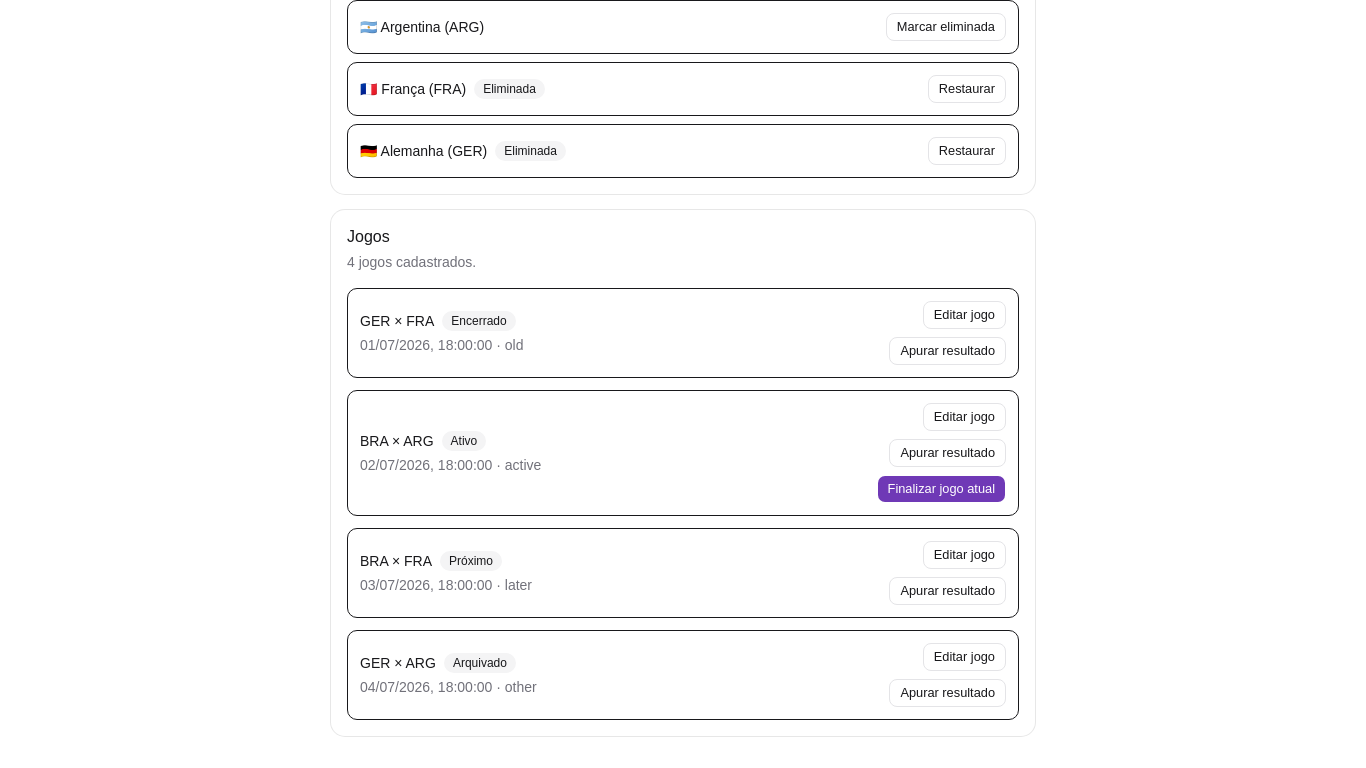
Test: AdminMatchesPage › shows a finish failure returned by the API
(page scrolled)
What coordinates should you click on to do the following:
click the button "Finalizar jogo atual"
I would click on:
 (941, 489)
Its box is [877,475,1006,503].
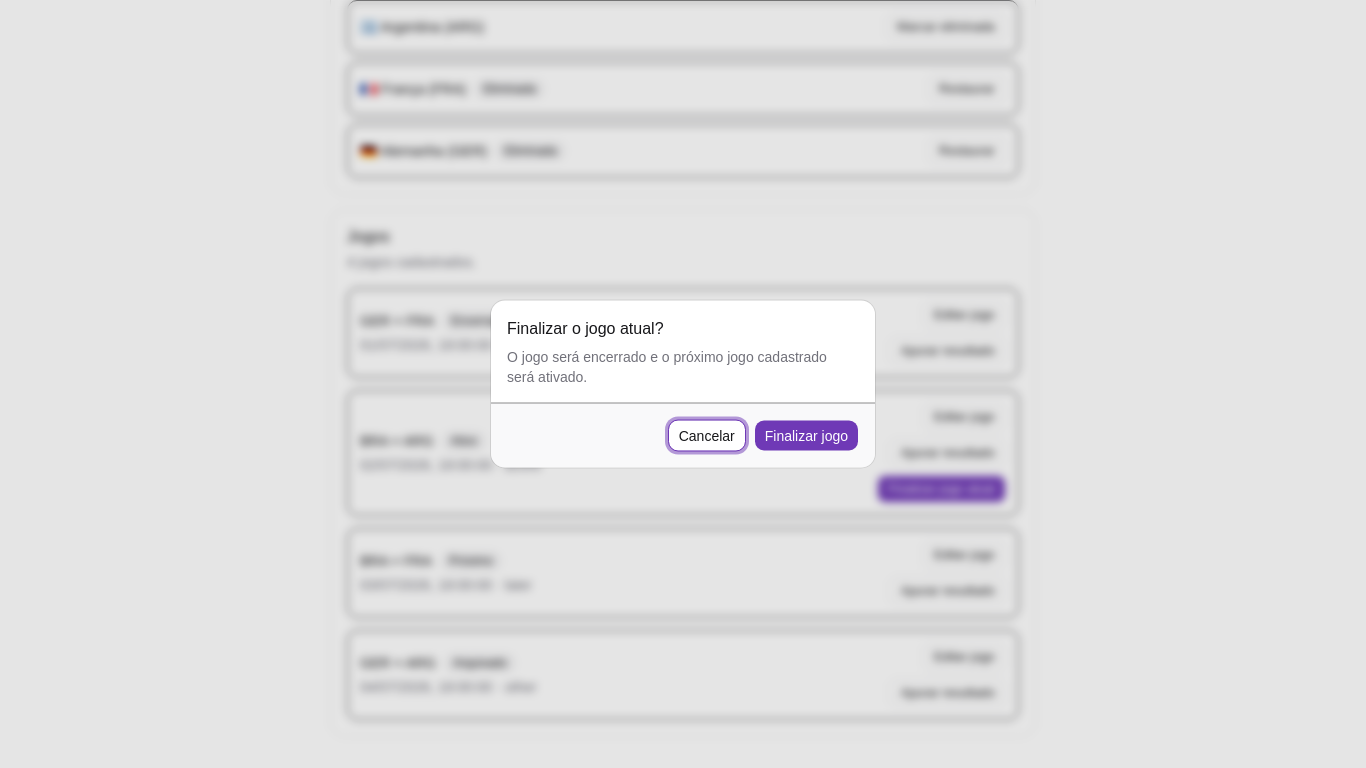
What coordinates should you click on to do the following:
click the button "Finalizar jogo"
I would click on:
 (806, 436)
Its box is [754,420,859,452].
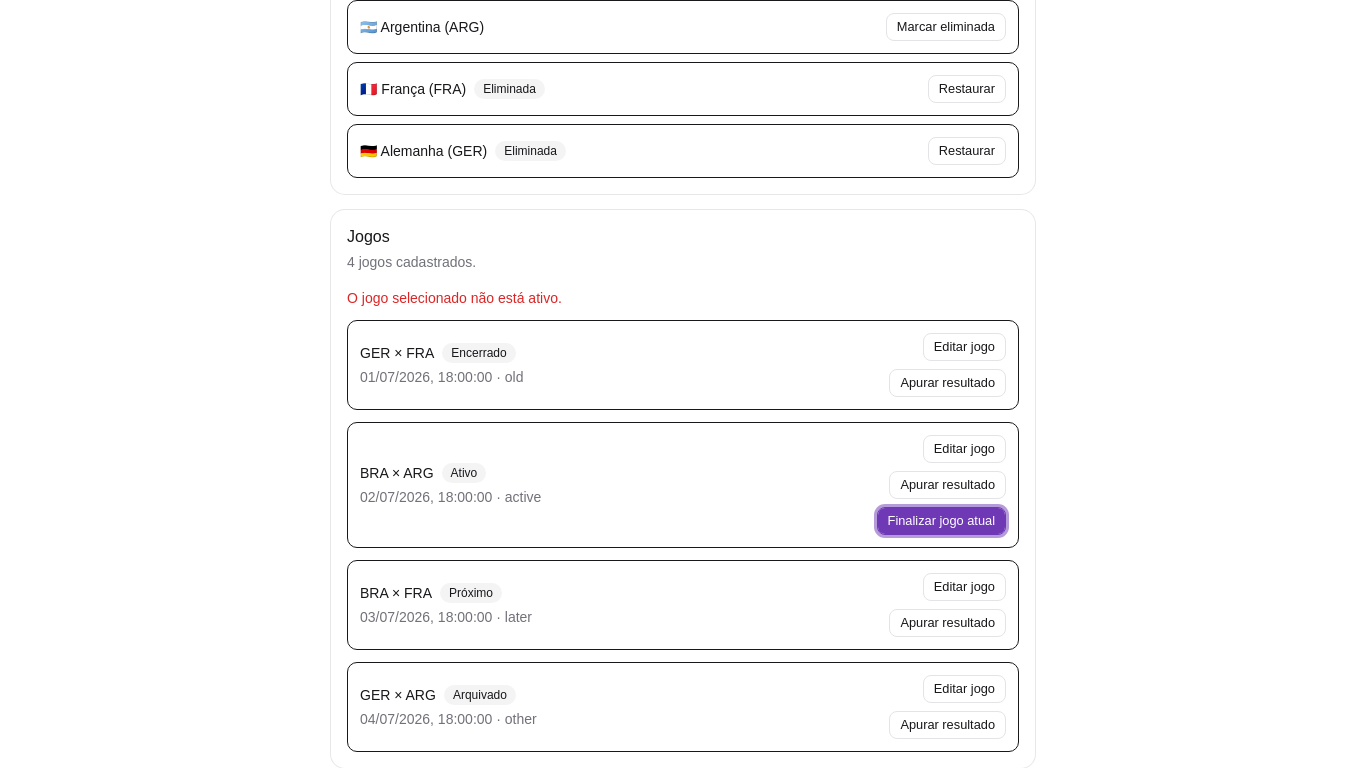
Check: the message reads "O jogo selecionado não está ativo.", box [347,290,562,306]
